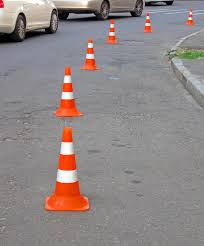car: (1, 1, 59, 39), (54, 1, 145, 16)
cone: (45, 127, 88, 211), (56, 66, 81, 118), (83, 40, 99, 71), (106, 19, 121, 45), (143, 11, 152, 33), (186, 7, 197, 25)
